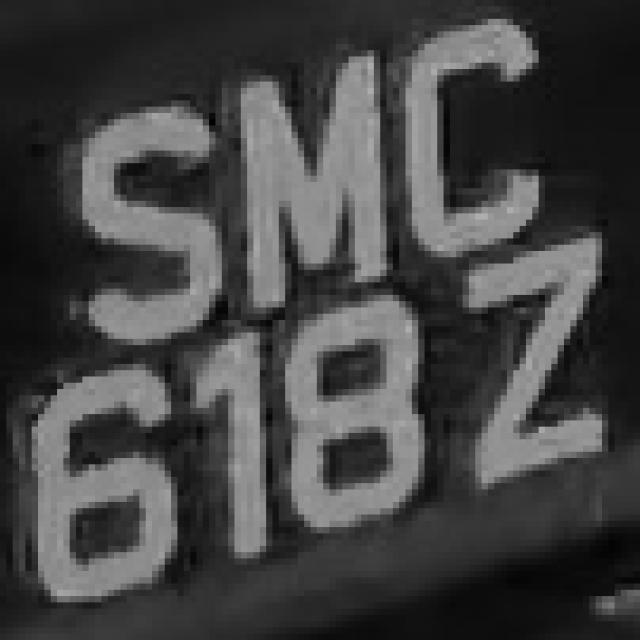1: (184, 295, 291, 583)
6: (25, 345, 184, 634)
8: (253, 289, 438, 546)
C: (380, 19, 564, 270)
M: (216, 50, 406, 314)
S: (51, 94, 240, 320)
Z: (437, 232, 621, 502)
